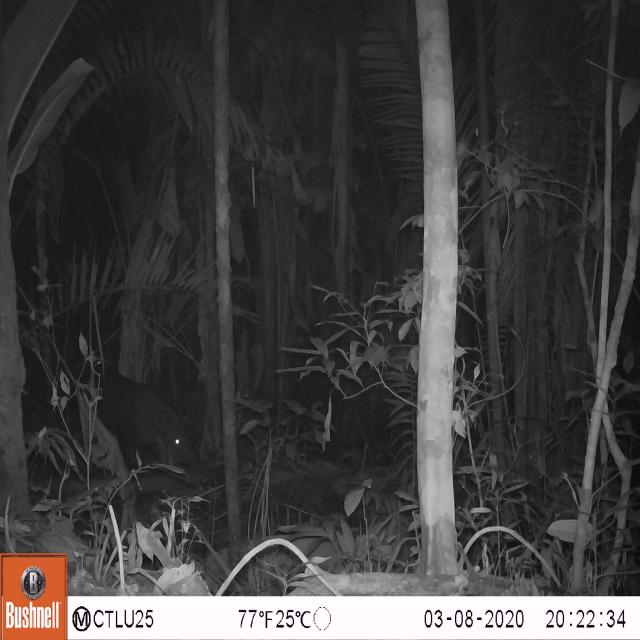Lowland Tapir: (68, 358, 204, 474)
